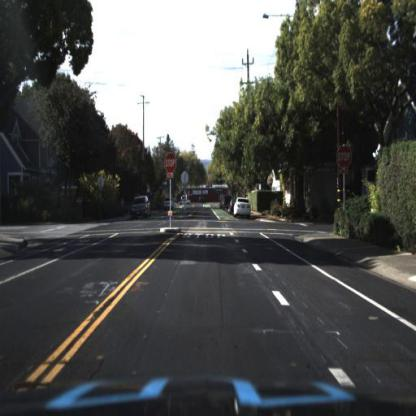car: (134, 196, 152, 217), (235, 196, 251, 217), (162, 194, 178, 213)
pedestrian: (118, 196, 126, 220)
